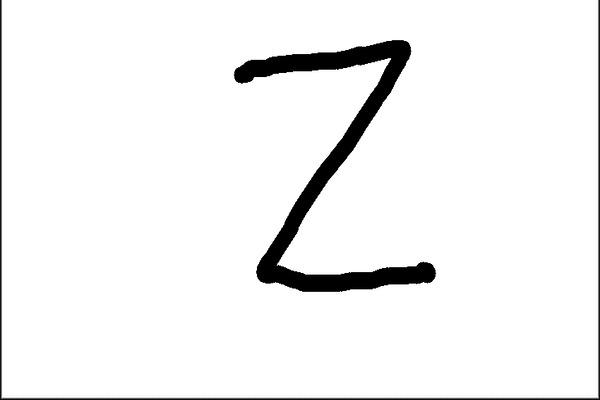Z: (222, 35, 444, 302)
